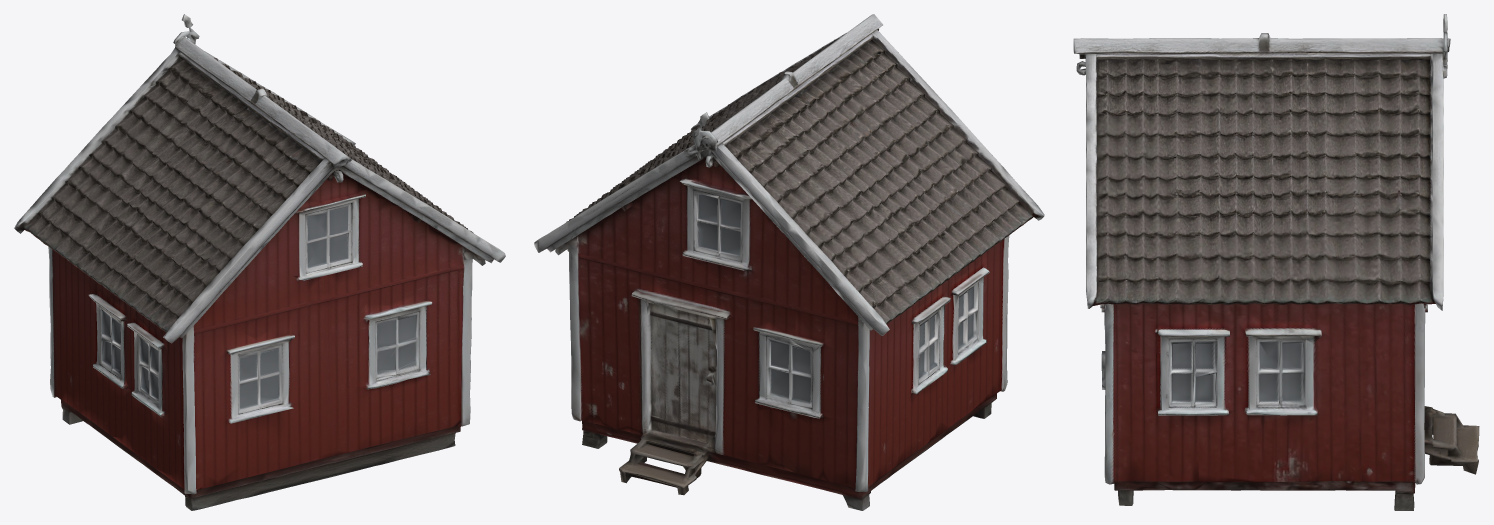
File: Fischerhuette.glb
3 renders of one model, left to right at view 1: azimuth 30°, elevation 25°; view 2: azimuth 150°, elevation 25°; view 3: azimuth 270°, elevation 25°, orthographic. The views are drawn at different scales.
Parts seen in each view (by area): view 1: tripo_node_191a6316-1d48-4ef1-9dba-b13806739a3b; view 2: tripo_node_191a6316-1d48-4ef1-9dba-b13806739a3b; view 3: tripo_node_191a6316-1d48-4ef1-9dba-b13806739a3b.
Boxes of the visible parts, box(x1,y1,x2,y2) form: tripo_node_191a6316-1d48-4ef1-9dba-b13806739a3b: box(14, 14, 505, 510); tripo_node_191a6316-1d48-4ef1-9dba-b13806739a3b: box(534, 14, 1044, 510); tripo_node_191a6316-1d48-4ef1-9dba-b13806739a3b: box(1073, 14, 1479, 510).
Size of the model in its own units: 0.982 by 1 by 0.8722.
1 material, 1 textured.
